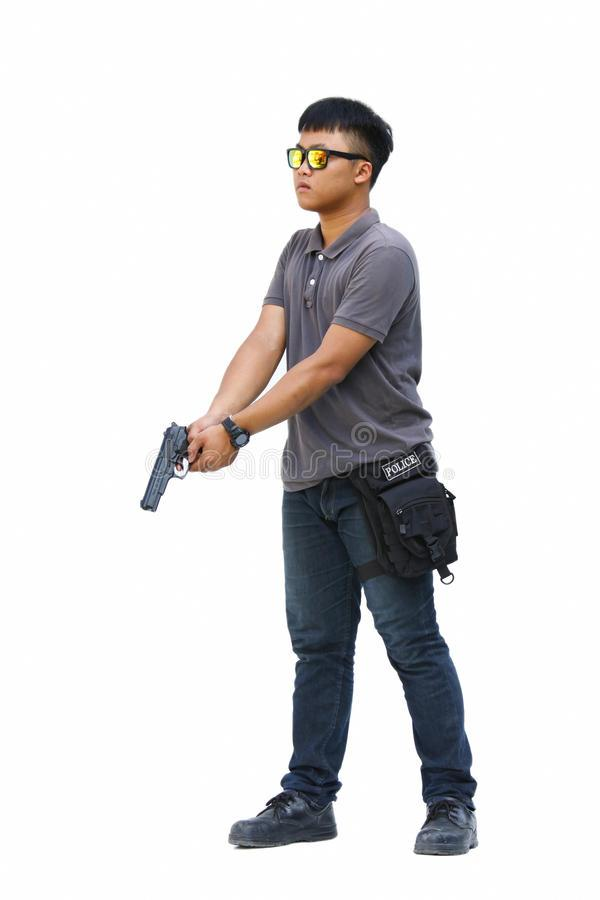criminal: (136, 90, 484, 860)
weapon: (138, 412, 210, 519)
